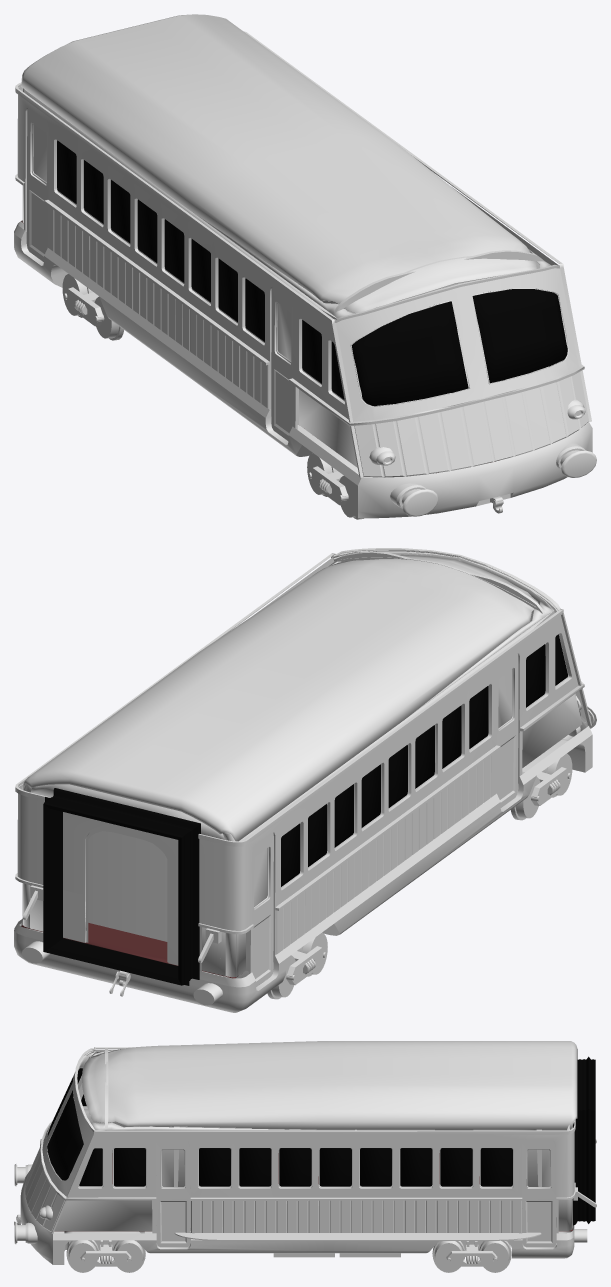
Rendered from vagoneCabine.fbx.
3 renders of one model, top to bottom at view 1: azimuth 30°, elevation 25°; view 2: azimuth 150°, elevation 25°; view 3: azimuth 270°, elevation 25°, orthographic. The views are drawn at different scales.
Parts seen in each view (by area): view 1: vagoneCabine_merged, vagoneCabine_tetto; view 2: vagoneCabine_merged, vagoneCabine_tetto; view 3: vagoneCabine_merged, vagoneCabine_tetto.
Boxes of the visible parts, x1,y1,x2,y2 form: vagoneCabine_merged: [14, 31, 596, 519]; vagoneCabine_tetto: [21, 14, 536, 313]; vagoneCabine_merged: [14, 548, 596, 1012]; vagoneCabine_tetto: [22, 554, 537, 841]; vagoneCabine_merged: [14, 1047, 596, 1272]; vagoneCabine_tetto: [81, 1041, 577, 1129].
Size of the model in its own units: 474 by 414 by 1287.
Materials: 7 (1 with a texture image).
